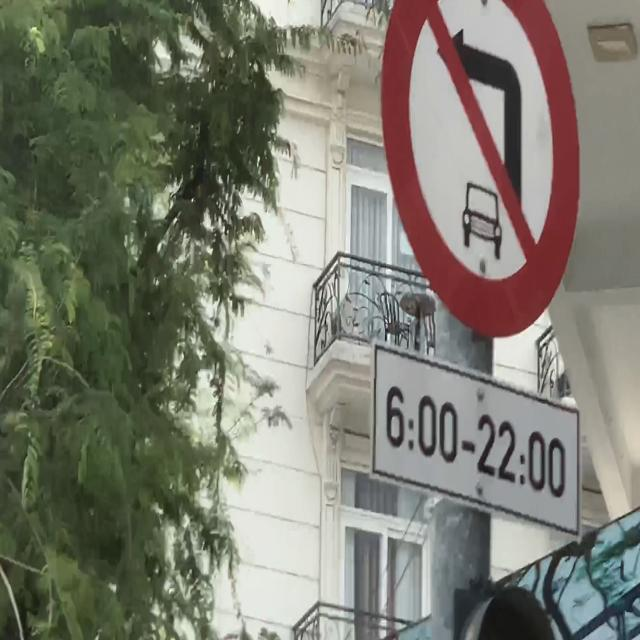Cam re trai: (379, 0, 582, 343)
